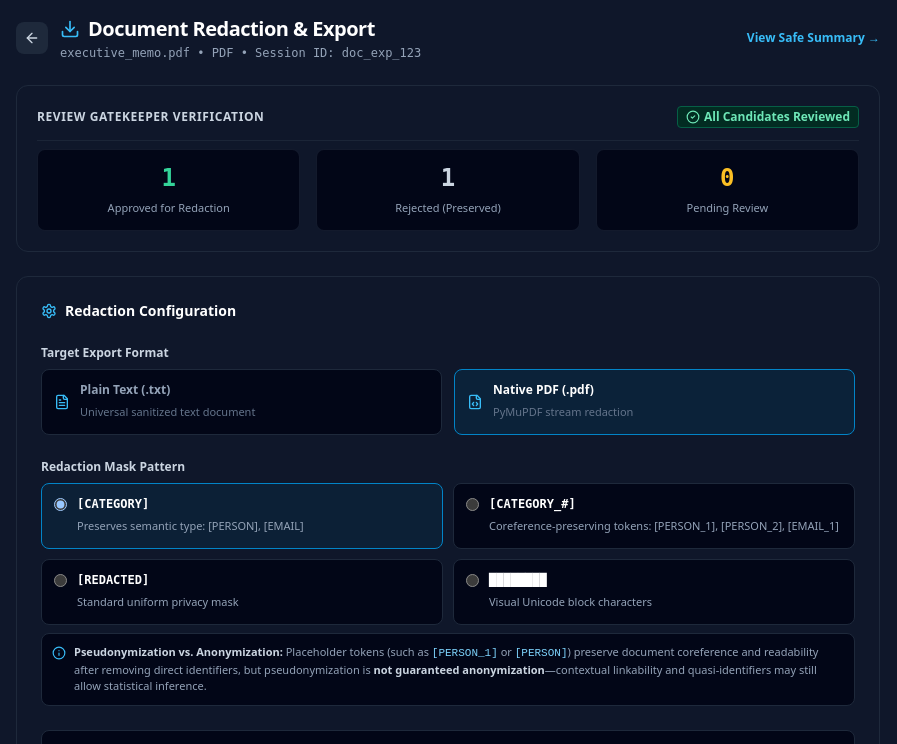
it: ExportView Page › passes selected txt format when downloading a PDF session as Plain Text (.txt)
Later steps or results of the test are not shown.
Switch export format to Plain Text (.txt)
Click the text "Plain Text (.txt)". click: (125, 390)
box: [80, 381, 170, 398]
(page scrolled)
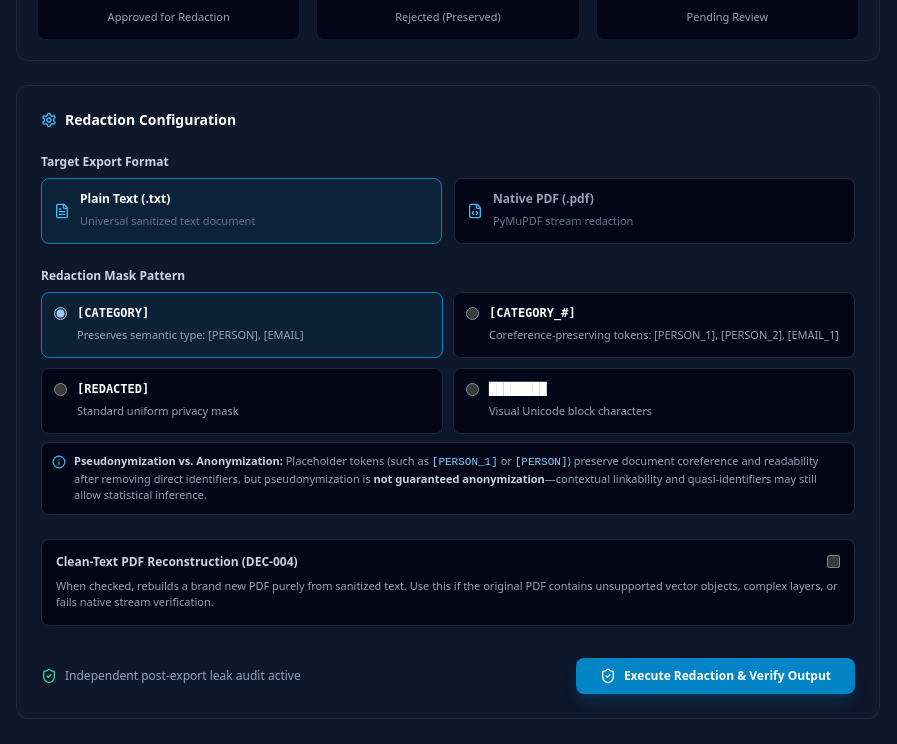
Click the button "Execute Redaction & Verify Output". click: (715, 676)
box: [576, 658, 855, 694]
(page scrolled)
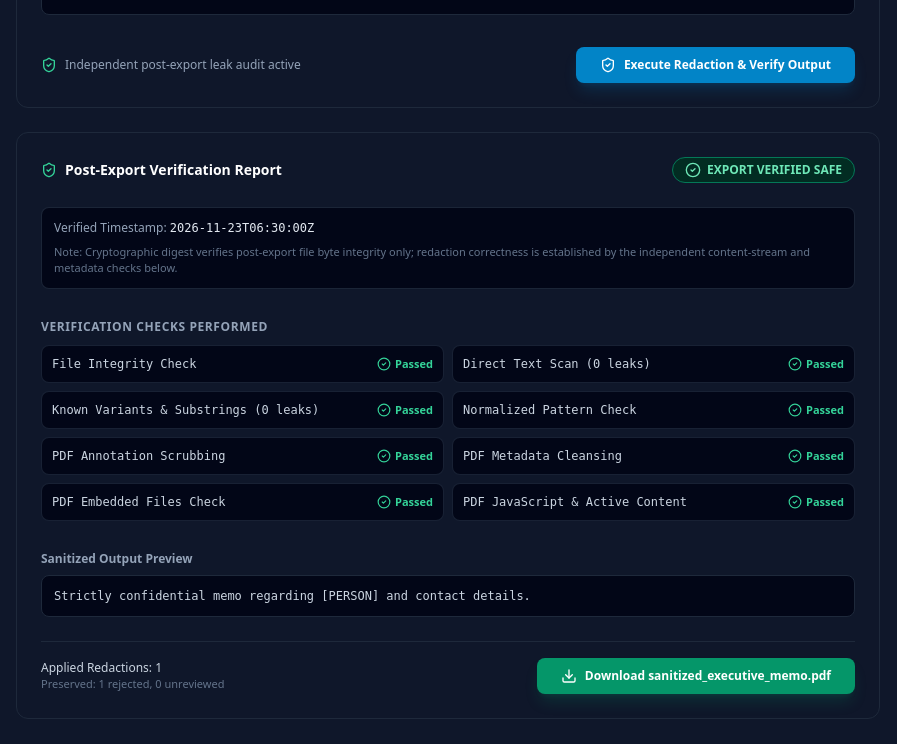
Expected: the text "Download sanitized_executive_memo.pdf" is shown, [585, 668, 831, 684]
